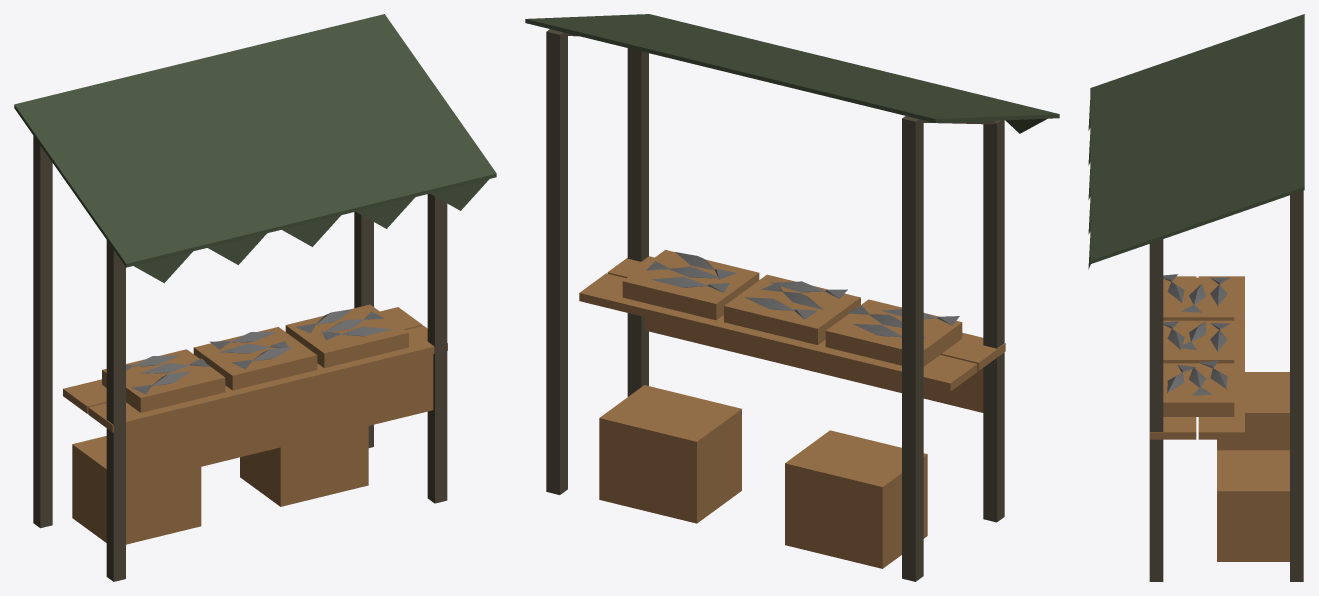
Rendered from MarketStallFish.fbx.
The picture shows the model from 3 angles, left to right: view 1: azimuth 30°, elevation 25°; view 2: azimuth 150°, elevation 25°; view 3: azimuth 270°, elevation 25°; orthographic projection. The views are drawn at different scales.
Parts seen in each view (by area): view 1: MarketStallFish; view 2: MarketStallFish; view 3: MarketStallFish.
Part boxes in pixels (x1,y1,x2,y2): MarketStallFish: (14, 14, 496, 581); MarketStallFish: (525, 14, 1059, 581); MarketStallFish: (1088, 14, 1304, 581).
Bounding box in the file's own units: 2.1 × 2.29 × 1.11.
